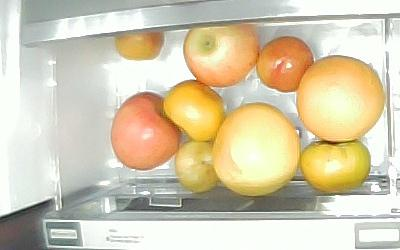apple: (110, 90, 181, 170), (182, 23, 260, 88)
grapefruit: (211, 102, 300, 196), (296, 55, 384, 142)
persimmon: (163, 79, 224, 140), (301, 139, 370, 191)
prune: (256, 35, 314, 93), (175, 139, 216, 194), (115, 29, 163, 61)
